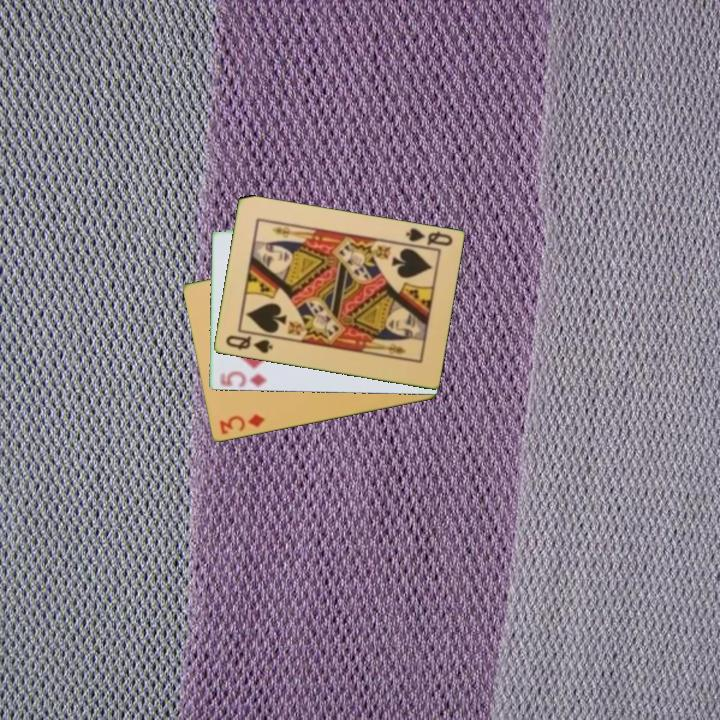3d: (216, 411, 267, 438)
5d: (215, 368, 269, 389)
Qs: (222, 332, 275, 356), (402, 225, 455, 249)
